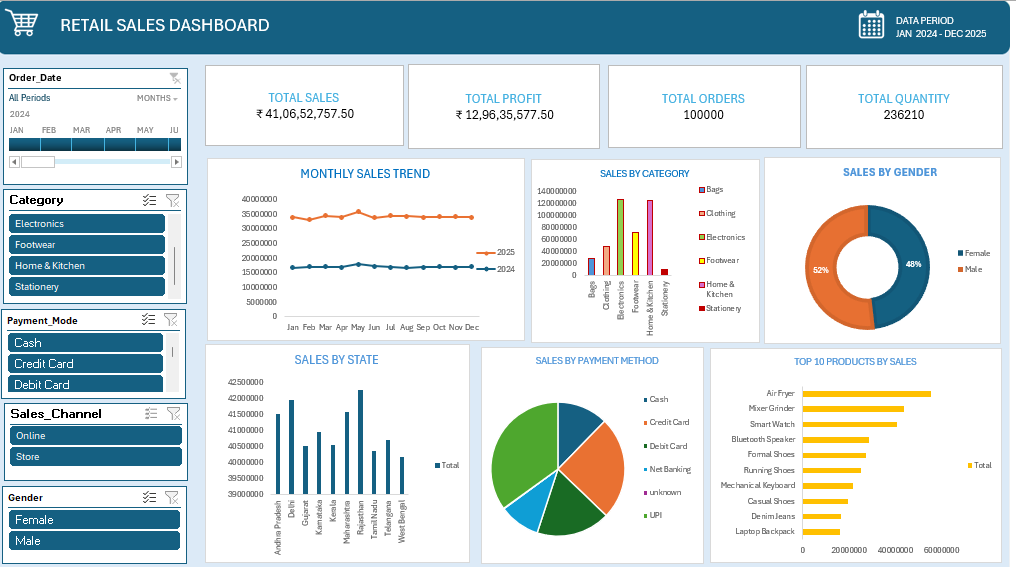

This screenshot's page, from the dashboard's own definition file:
{"tool":"powerbi","page":{"name":"Page 1","canvas":[1920,1080],"ordinal":0},"visuals":[{"type":"shape","box":[0,0,1920,130],"z":0},{"type":"image","box":[0,0,462.5,110],"z":1},{"type":"textbox","box":[507.5,30,618,82],"z":2},{"type":"image","box":[1467.4,16.3,116.3,76.7],"z":3},{"type":"cardVisual","title":"TOTAL SALES","fields":{"Data":["Calendar.Total sales"]},"box":[730,130,207.5,170],"z":4},{"type":"cardVisual","title":"TOTAL SALES","fields":{"Data":["Calendar.Total profit"]},"box":[960,130,224,170],"z":5},{"type":"cardVisual","title":"TOTAL SALES","fields":{"Data":["Calendar.Total Quantity"]},"box":[1208,130,224,170],"z":6},{"type":"cardVisual","title":"TOTAL SALES","fields":{"Data":["Calendar.Profit Margin %"]},"box":[1454,130,224,170],"z":7},{"type":"cardVisual","title":"TOTAL SALES","fields":{"Data":["Calendar.Total Customers"]},"box":[1696,130,224,170],"z":8},{"type":"cardVisual","title":"TOTAL SALES","fields":{"Data":["Calendar.Total Orders"]},"box":[482,130,224,170],"z":9},{"type":"shape","box":[0,110,462.5,970],"z":10},{"type":"textbox","box":[82.5,130,300,72.5],"z":11},{"type":"slicer","fields":{"Values":["Calendar.Year"]},"box":[55,215,327.5,85],"z":12},{"type":"slicer","fields":{"Values":["Calendar.Month_Name"]},"box":[55,325,327.5,92.5],"z":13},{"type":"slicer","fields":{"Values":["Products.Category"]},"box":[55,450,327.5,90],"z":14},{"type":"slicer","fields":{"Values":["Customers.Gender"]},"box":[55,565,327.5,92.5],"z":15},{"type":"slicer","fields":{"Values":["Customers.Customer_Segment"]},"box":[55,677.5,327.5,97.5],"z":16},{"type":"slicer","fields":{"Values":["Sales.Payment_Mode"]},"box":[55,792.5,327.5,87.5],"z":17},{"type":"slicer","fields":{"Values":["Sales.Channel"]},"box":[55,897.5,327.5,92.5],"z":18},{"type":"lineChart","title":"Monthly Sales and  Profit","fields":{"Category":["Calendar.Month_Name"],"Y":["Sum(Sales.Sales)","Sum(Sales.Profit)"]},"box":[481.4,325.6,644.2,332.6],"z":19},{"type":"donutChart","title":"Sales by Category","fields":{"Category":["Products.Category"],"Y":["Sum(Sales.Sales)"]},"box":[1154,326,378,332],"z":20},{"type":"pieChart","title":"Sales by Gender","fields":{"Category":["Customers.Gender"],"Y":["Sum(Sales.Sales)"]},"box":[1512,678,408,402],"z":21},{"type":"donutChart","title":"Payment Method","fields":{"Category":["Sales.Payment_Mode"],"Y":["Sum(Sales.Sales)"]},"box":[482,678,520,402],"z":22},{"type":"columnChart","title":"Customer Segment","fields":{"Category":["Customers.Customer_Segment"],"Y":["Sum(Sales.Sales)"]},"box":[1548,326,372,332],"z":23},{"type":"clusteredBarChart","title":"Top 10 Products by Sales","fields":{"Category":["Products.Category"],"Y":["Sum(Sales.Sales)"]},"box":[1018,678,472,402],"z":24},{"type":"textbox","box":[1583.7,23.3,300,86],"z":25},{"type":"image","box":[111.6,139.5,51.2,48.8],"z":26}]}

Visuals, with their boxes in screenshot pixels (x1, y1, x2, y2), scaled from the page's 1920x1080 canvas onto the 1016x570 screenshot:
shape: pyautogui.locateOnScreen(0, 0, 1015, 69)
image: pyautogui.locateOnScreen(0, 0, 245, 58)
textbox: pyautogui.locateOnScreen(269, 16, 596, 59)
image: pyautogui.locateOnScreen(776, 9, 838, 49)
"TOTAL SALES" cardVisual: pyautogui.locateOnScreen(386, 69, 496, 158)
"TOTAL SALES" cardVisual: pyautogui.locateOnScreen(508, 69, 627, 158)
"TOTAL SALES" cardVisual: pyautogui.locateOnScreen(639, 69, 758, 158)
"TOTAL SALES" cardVisual: pyautogui.locateOnScreen(769, 69, 888, 158)
"TOTAL SALES" cardVisual: pyautogui.locateOnScreen(897, 69, 1015, 158)
"TOTAL SALES" cardVisual: pyautogui.locateOnScreen(255, 69, 374, 158)
shape: pyautogui.locateOnScreen(0, 58, 245, 569)
textbox: pyautogui.locateOnScreen(44, 69, 202, 107)
slicer - Calendar.Year: pyautogui.locateOnScreen(29, 113, 202, 158)
slicer - Calendar.Month_Name: pyautogui.locateOnScreen(29, 172, 202, 220)
slicer - Products.Category: pyautogui.locateOnScreen(29, 238, 202, 285)
slicer - Customers.Gender: pyautogui.locateOnScreen(29, 298, 202, 347)
slicer - Customers.Customer_Segment: pyautogui.locateOnScreen(29, 358, 202, 409)
slicer - Sales.Payment_Mode: pyautogui.locateOnScreen(29, 418, 202, 464)
slicer - Sales.Channel: pyautogui.locateOnScreen(29, 474, 202, 522)
"Monthly Sales and  Profit" lineChart: pyautogui.locateOnScreen(255, 172, 596, 347)
"Sales by Category" donutChart: pyautogui.locateOnScreen(611, 172, 811, 347)
"Sales by Gender" pieChart: pyautogui.locateOnScreen(800, 358, 1015, 569)
"Payment Method" donutChart: pyautogui.locateOnScreen(255, 358, 530, 569)
"Customer Segment" columnChart: pyautogui.locateOnScreen(819, 172, 1015, 347)
"Top 10 Products by Sales" clusteredBarChart: pyautogui.locateOnScreen(539, 358, 788, 569)
textbox: pyautogui.locateOnScreen(838, 12, 997, 58)
image: pyautogui.locateOnScreen(59, 74, 86, 99)
